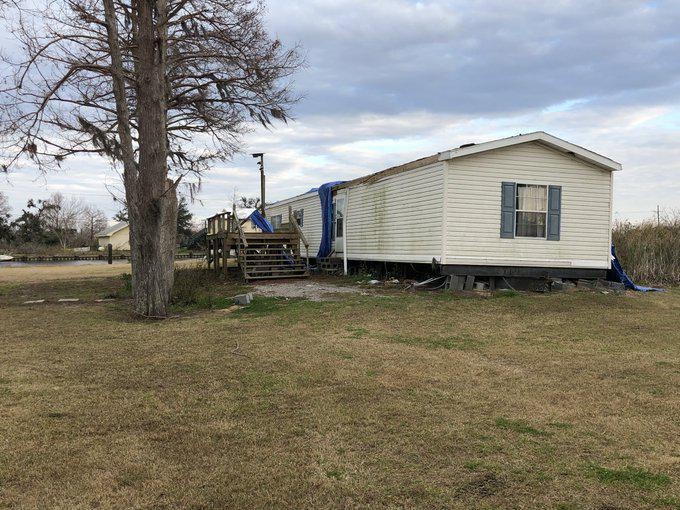minor: (208, 126, 626, 305)
